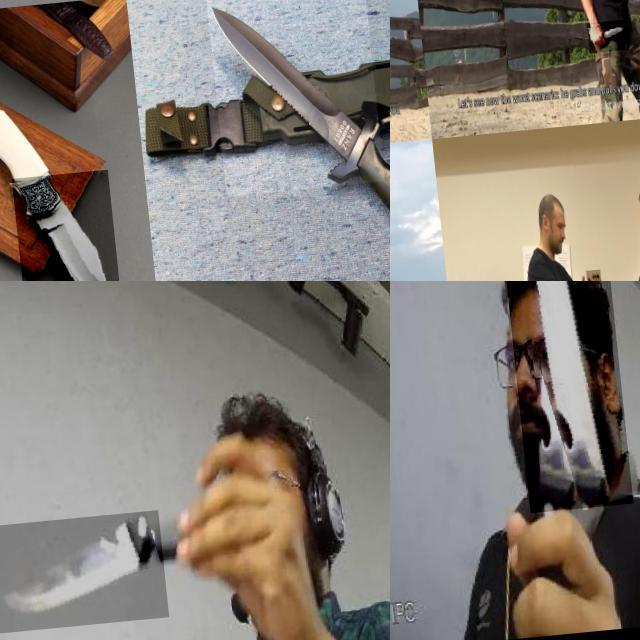-: (198, 0, 373, 204), (489, 281, 622, 517), (103, 0, 309, 107), (0, 516, 160, 636), (0, 0, 114, 106), (0, 175, 109, 281), (0, 100, 49, 280), (582, 30, 624, 63), (390, 47, 410, 78)
